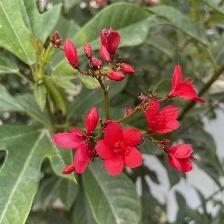jatropha: (98, 122, 147, 176)
